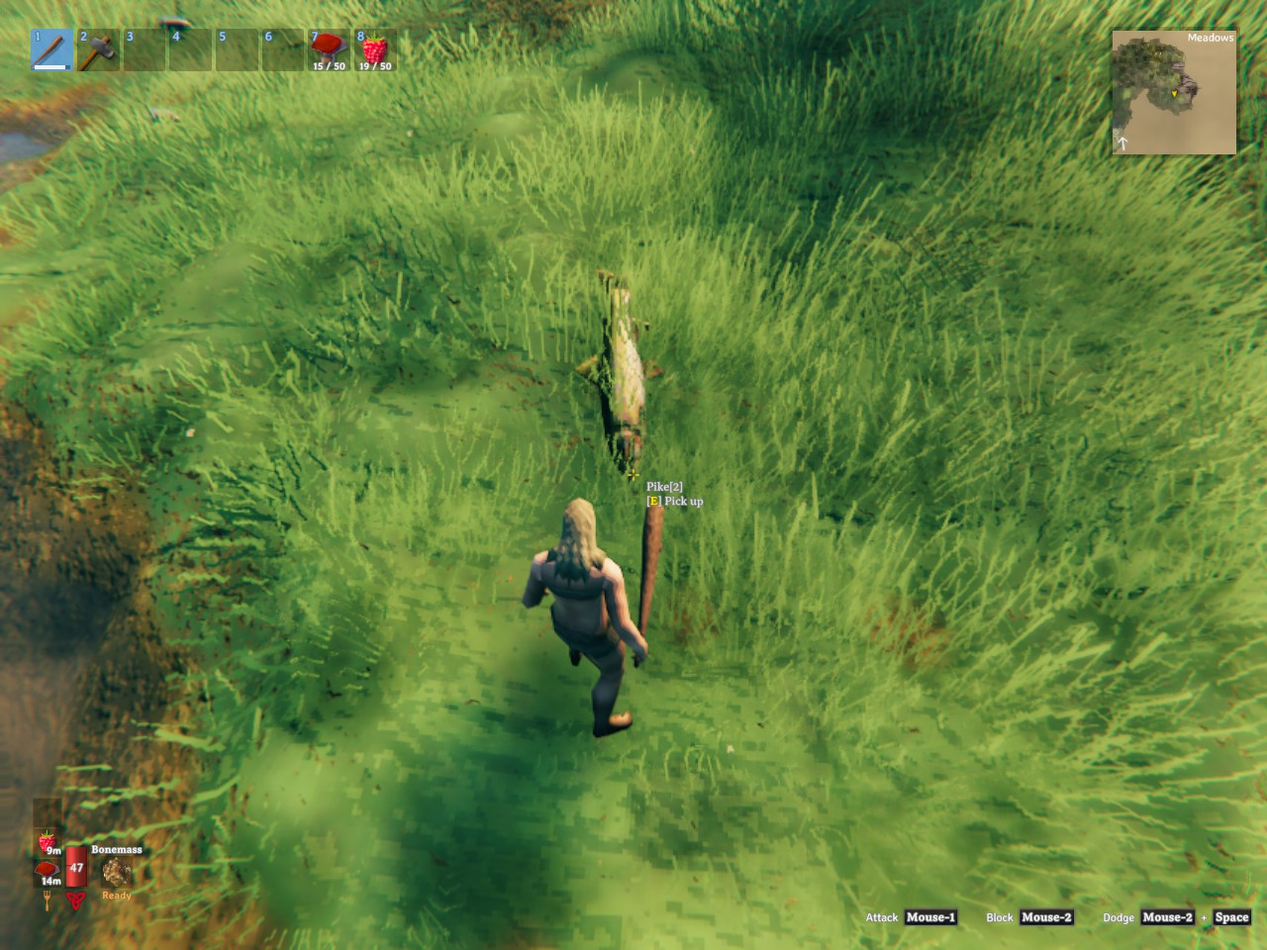Fish: (576, 272, 645, 473)
